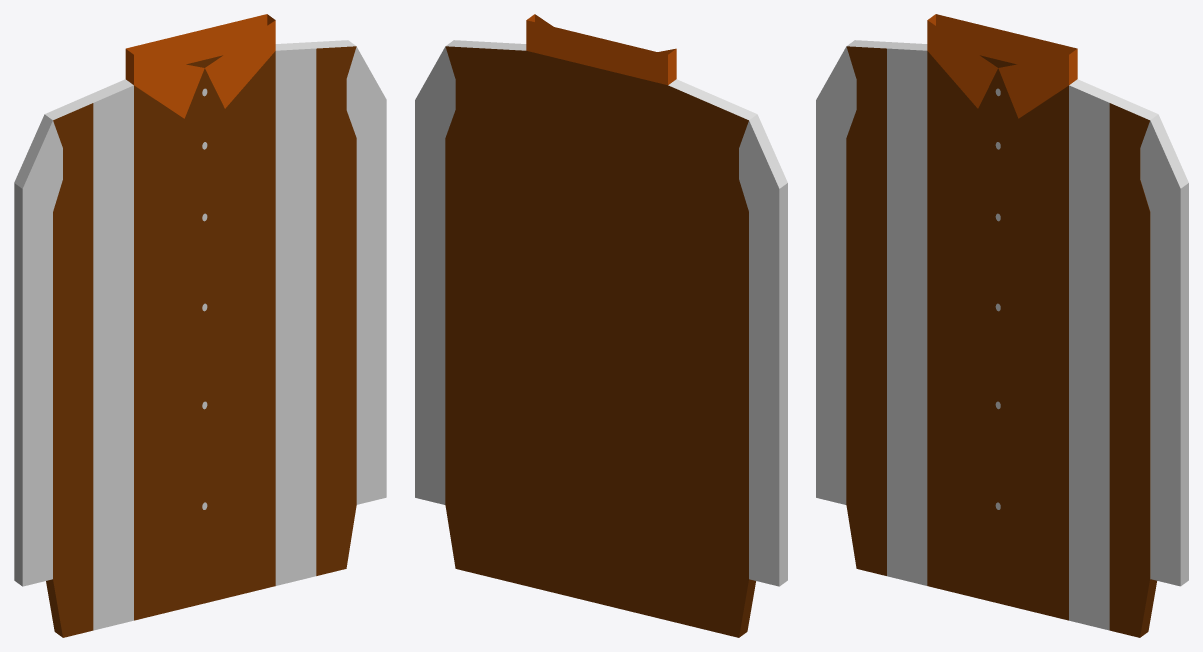
File: shirt-orange.dae
3 views of the same model, side by side, from view 1: azimuth 30°, elevation 25°; view 2: azimuth 150°, elevation 25°; view 3: azimuth 330°, elevation 25° (orthographic).
Visible parts, largest first — view 1: group_1_002, group_1_004, group_1_008, group_1_006, group_1_009, group_1_003, group_1_005, group_1_014; view 2: group_1_002, group_1_004, group_1_007, group_1_006, group_1_015, group_1_008, group_1_005; view 3: group_1_002, group_1_008, group_1_004, group_1_006, group_1_003, group_1_009, group_1_014, group_1_005.
Part boxes in pixels (left/top/right/bottom): group_1_002: left=46, top=46, right=356, bottom=637; group_1_004: left=14, top=79, right=133, bottom=630; group_1_008: left=275, top=40, right=386, bottom=585; group_1_006: left=126, top=14, right=267, bottom=64; group_1_009: left=125, top=49, right=204, bottom=118; group_1_003: left=205, top=14, right=275, bottom=108; group_1_005: left=14, top=518, right=52, bottom=586; group_1_014: left=356, top=436, right=386, bottom=504; group_1_002: left=445, top=46, right=755, bottom=637; group_1_004: left=668, top=79, right=787, bottom=525; group_1_007: left=415, top=46, right=455, bottom=504; group_1_006: left=526, top=20, right=667, bottom=85; group_1_015: left=749, top=518, right=779, bottom=586; group_1_008: left=446, top=40, right=526, bottom=50; group_1_005: left=779, top=519, right=787, bottom=586; group_1_002: left=846, top=46, right=1156, bottom=637; group_1_008: left=1069, top=79, right=1188, bottom=630; group_1_004: left=816, top=40, right=927, bottom=585; group_1_006: left=936, top=14, right=1077, bottom=64; group_1_003: left=998, top=49, right=1077, bottom=118; group_1_009: left=927, top=14, right=997, bottom=108; group_1_014: left=1150, top=518, right=1188, bottom=586; group_1_005: left=816, top=436, right=846, bottom=504.
Bounding box in the file's own units: 0.6333 × 0.0254 × 0.9398.
